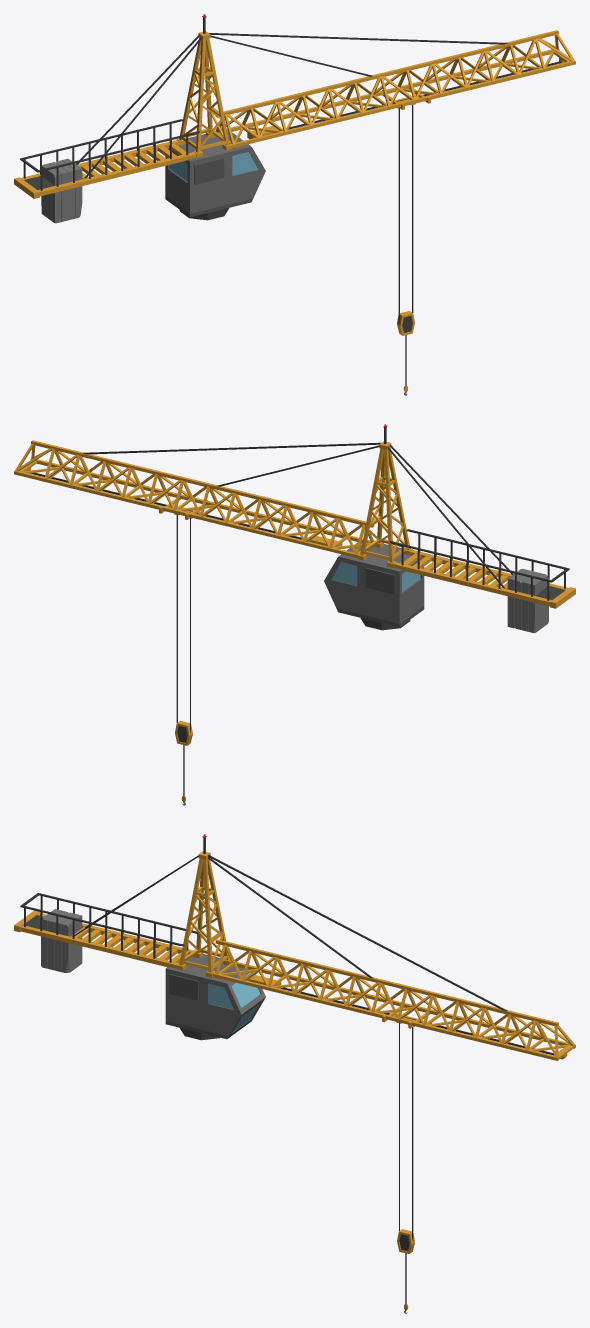
The model's file is SM_Props_TowerCrane_01_2.glb.
3 renders of one model, top to bottom at view 1: azimuth 30°, elevation 25°; view 2: azimuth 150°, elevation 25°; view 3: azimuth 330°, elevation 25°, orthographic.
Visible parts, largest first — view 1: SM_Props_TowerCrane_01_2; view 2: SM_Props_TowerCrane_01_2; view 3: SM_Props_TowerCrane_01_2.
Boxes of the visible parts, x1=… form: SM_Props_TowerCrane_01_2: x1=14, y1=14, x2=575, y2=395; SM_Props_TowerCrane_01_2: x1=14, y1=424, x2=575, y2=805; SM_Props_TowerCrane_01_2: x1=14, y1=834, x2=575, y2=1313.
Size of the model in its own units: 20.38 by 15.43 by 1.72.
2 materials, 1 textured.
